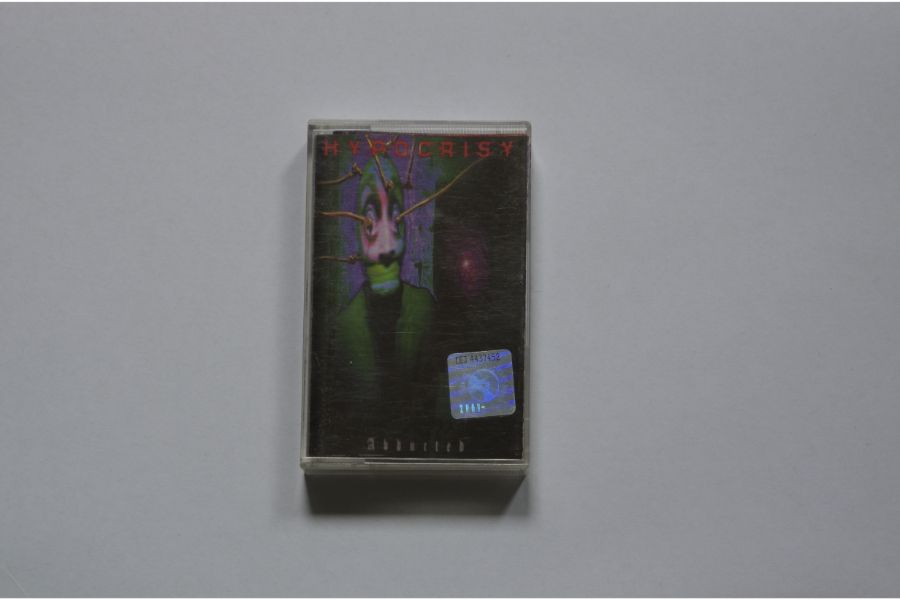album: (299, 119, 528, 475)
